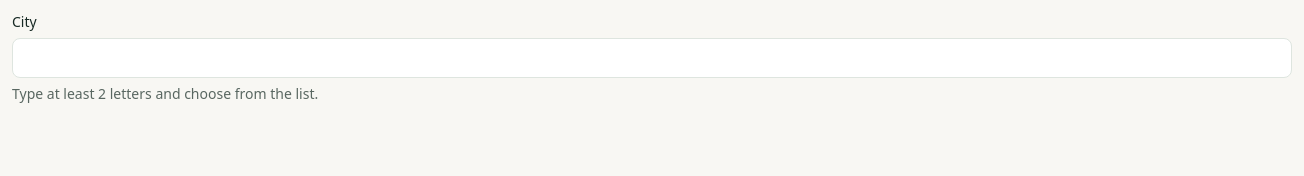
Test case: the place picker › says so when nothing matches
The image size is (1304, 176).
Type "zzzz" into the dropdown labelled "City" at (652, 58), box [12, 38, 1292, 78]
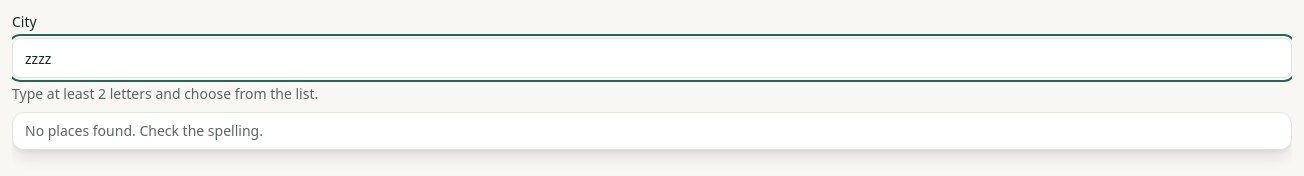
Expected: the text "No places found. Check the spelling." is shown, [25, 121, 263, 140]
